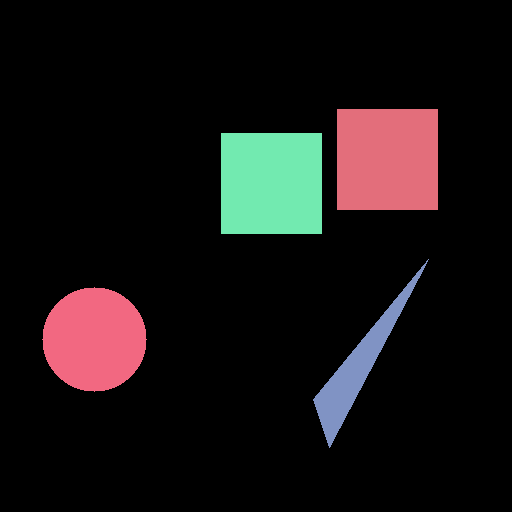circle: (42, 287, 146, 391)
square: (221, 133, 321, 233), (337, 109, 437, 209)
triangle: (313, 259, 428, 447)
